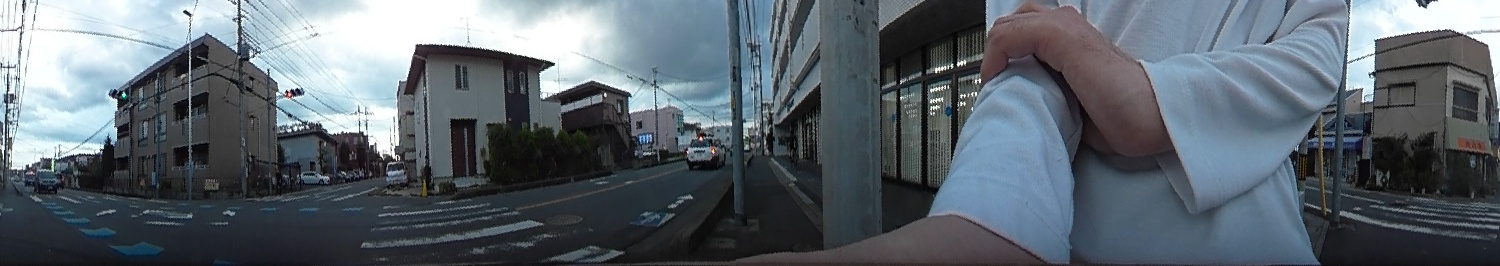difficult_person: (272, 164, 284, 191)
